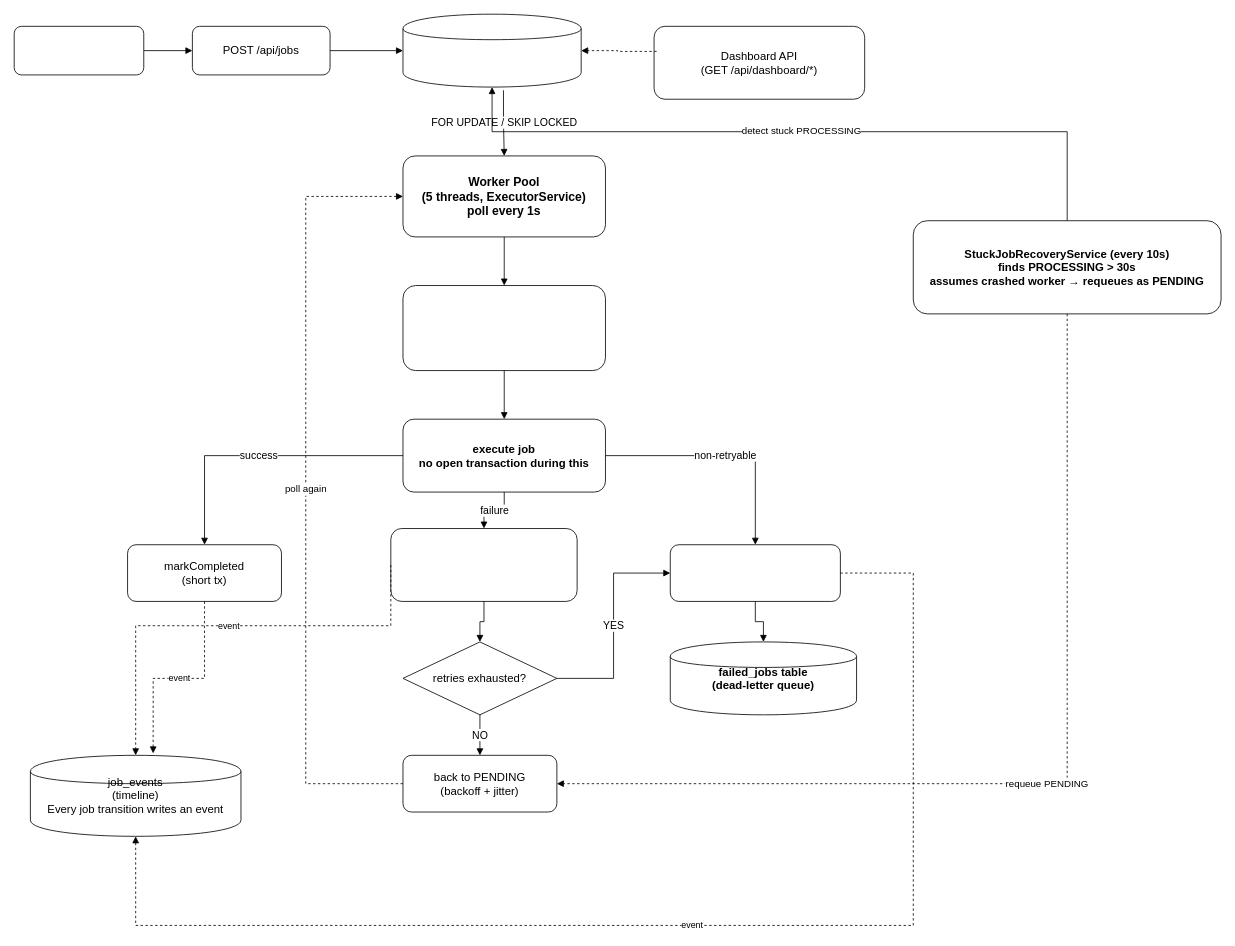
This 1235x946 diagram has some shape labels left out. The centre of each missing label's shape, as x and y in pixels:
"claimJobs() (short tx) commits PROCESSING immediately" goes at point 503,328.
"Client / API" goes at point 78,50.
"jobs table (MySQL)" goes at point 491,50.
"markDeadLettered (short tx)" goes at point 754,572.
"markFailed AndMaybeRetry (short tx)" goes at point 483,564.
